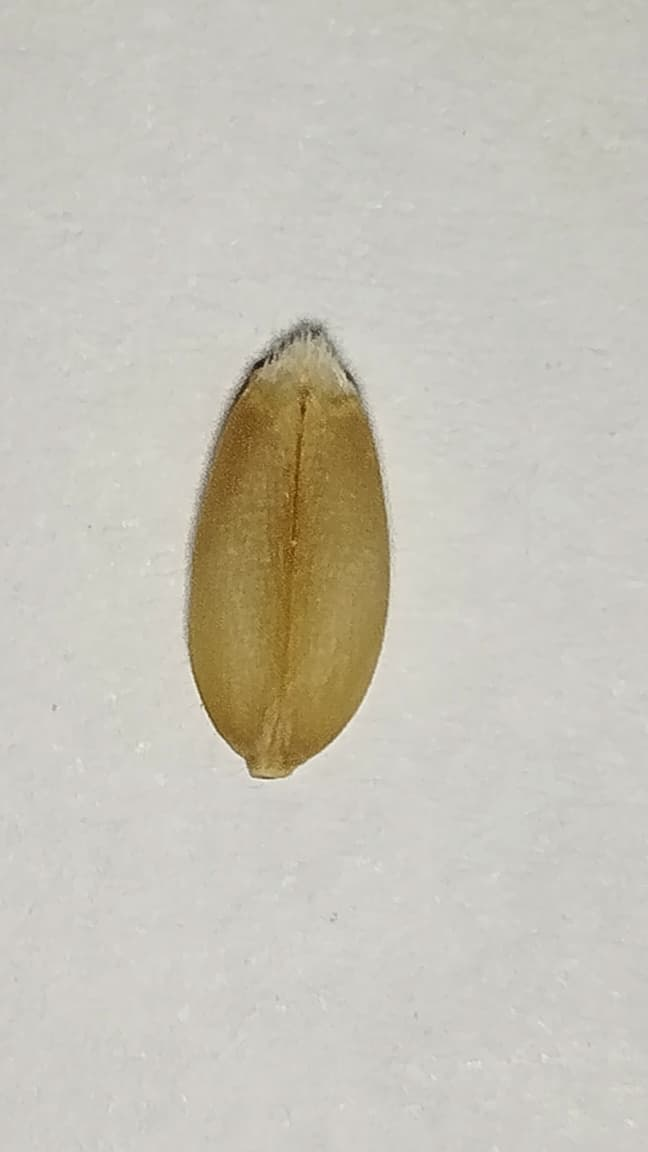healthy: (188, 334, 384, 763)
